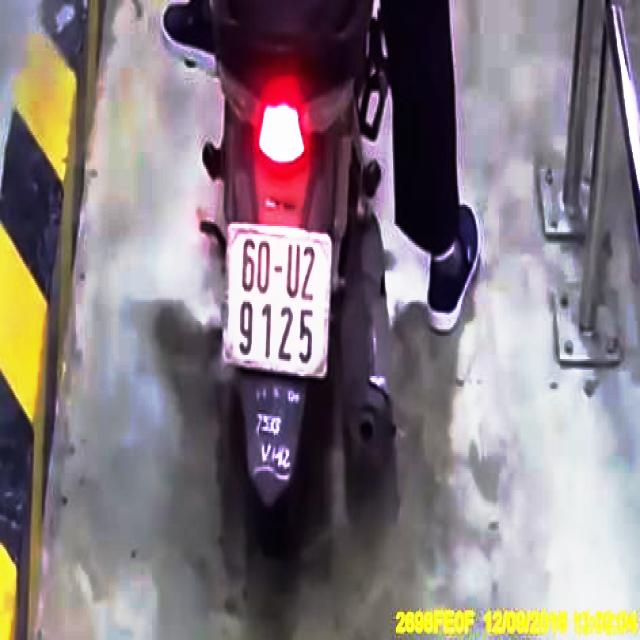license_plate: (225, 229, 331, 377)
